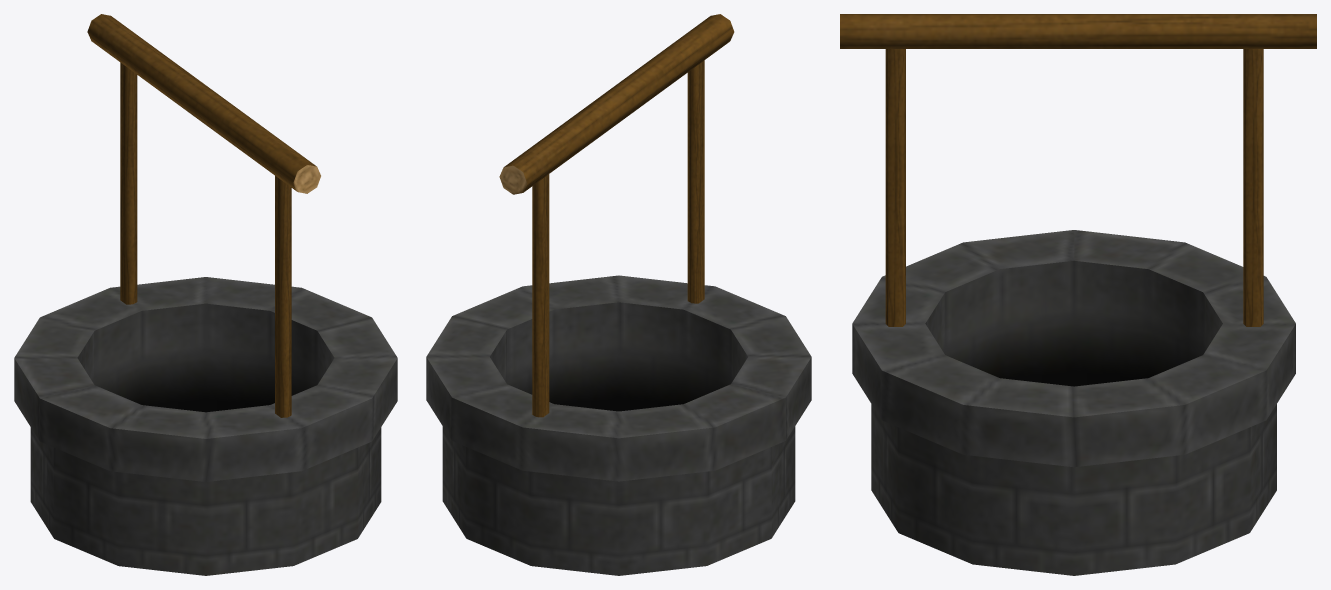
Rendered from Pozo.fbx.
3 views of the same model, side by side, from view 1: azimuth 30°, elevation 25°; view 2: azimuth 150°, elevation 25°; view 3: azimuth 270°, elevation 25° (orthographic). The views are drawn at different scales.
Parts seen in each view (by area): view 1: m1_pozo; view 2: m1_pozo; view 3: m1_pozo.
Boxes of the visible parts, left/top/right/bottom form: m1_pozo: left=14, top=14, right=397, bottom=575; m1_pozo: left=426, top=14, right=811, bottom=575; m1_pozo: left=840, top=14, right=1316, bottom=575.
Bounding box in the file's own units: 43.49 × 51.42 × 46.72.
1 material, 1 textured.
